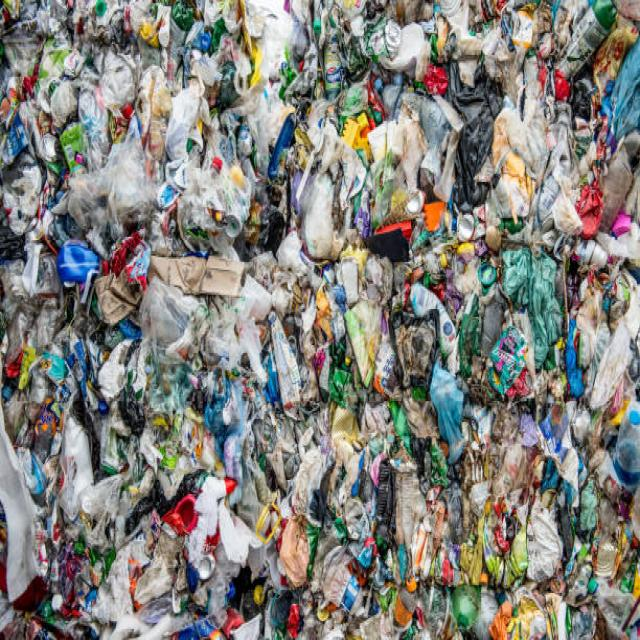plastic: (52, 55, 578, 615)
